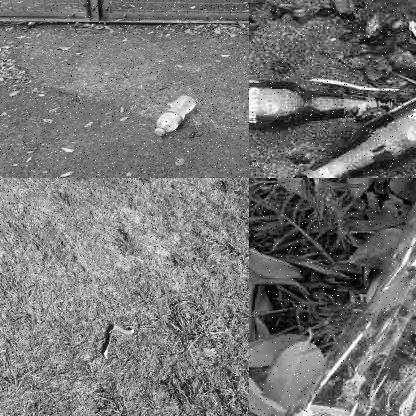-: (155, 94, 199, 136)
glass: (286, 96, 416, 178), (249, 75, 378, 134)
plastic: (250, 178, 415, 415), (102, 326, 136, 355)
